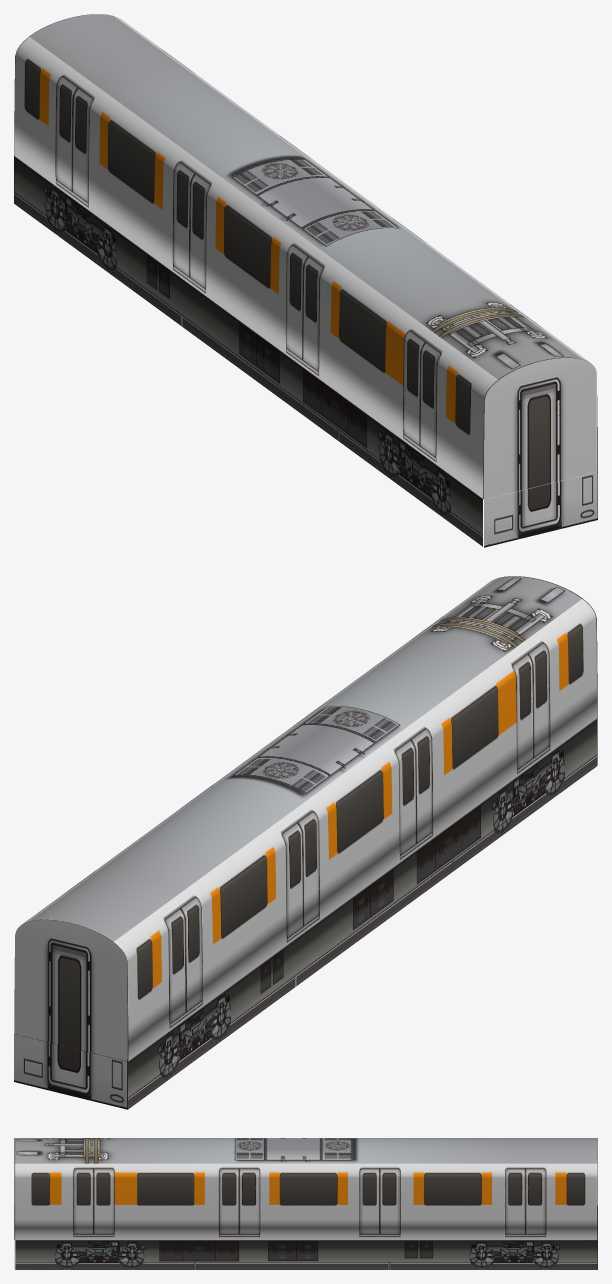
Rendered from car2.glb.
3 renders of one model, top to bottom at view 1: azimuth 30°, elevation 25°; view 2: azimuth 150°, elevation 25°; view 3: azimuth 270°, elevation 25°, orthographic. The views are drawn at different scales.
Parts seen in each view (by area): view 1: tobu-50000-car2; view 2: tobu-50000-car2; view 3: tobu-50000-car2.
Part boxes in pixels (x1=…): tobu-50000-car2: x1=14, y1=14, x2=597, y2=547; tobu-50000-car2: x1=14, y1=576, x2=597, y2=1109; tobu-50000-car2: x1=14, y1=1138, x2=597, y2=1269.
Bounding box in the file's own units: 2.8 × 4.05 × 20.03.
Materials: 9 (8 with a texture image).
